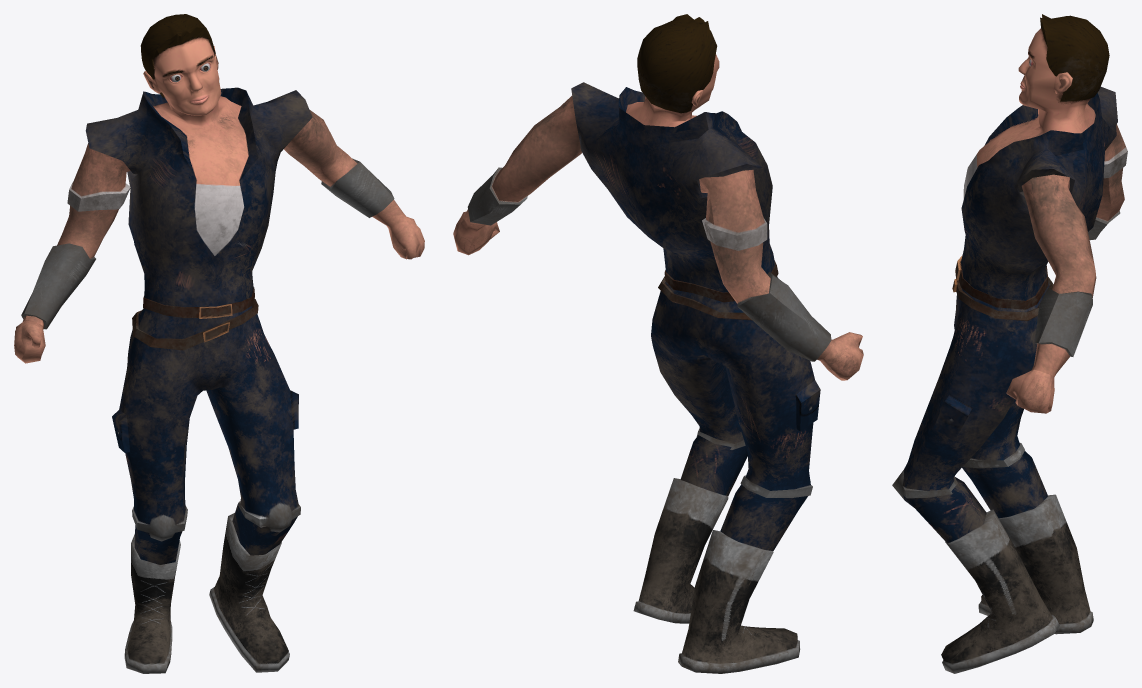
File: Anim_recibirdanyo_jugador.0021.obj
3 renders of one model, left to right at view 1: azimuth 30°, elevation 25°; view 2: azimuth 150°, elevation 25°; view 3: azimuth 270°, elevation 25°, orthographic. The views are drawn at different scales.
Parts seen in each view (by area): view 1: polySurface1; view 2: polySurface1; view 3: polySurface1.
Boxes of the visible parts, bbox=[...] form: polySurface1: bbox=[14, 14, 424, 673]; polySurface1: bbox=[453, 14, 863, 673]; polySurface1: bbox=[892, 14, 1127, 673].
Size of the model in its own units: 6.2 by 9.26 by 3.13.
